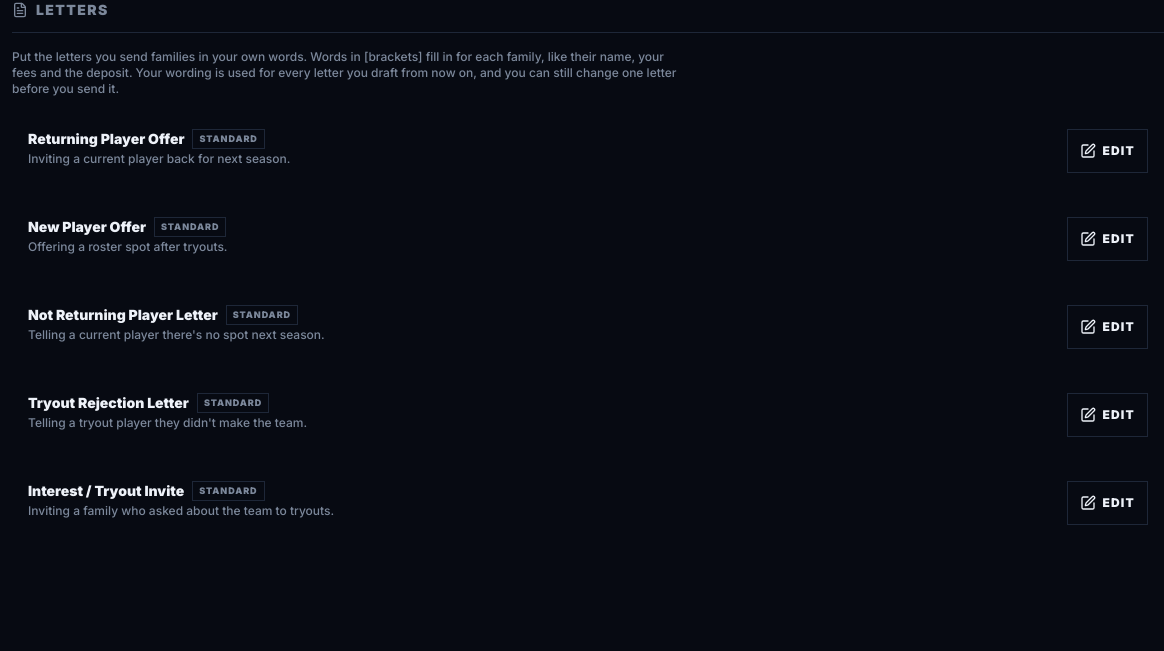
it: LetterTemplatesPanel › previews the letter filled in for a sample family
Click the button "Edit" in the row of "Returning Player Offer" at [1108, 151], box [1067,129,1148,173]
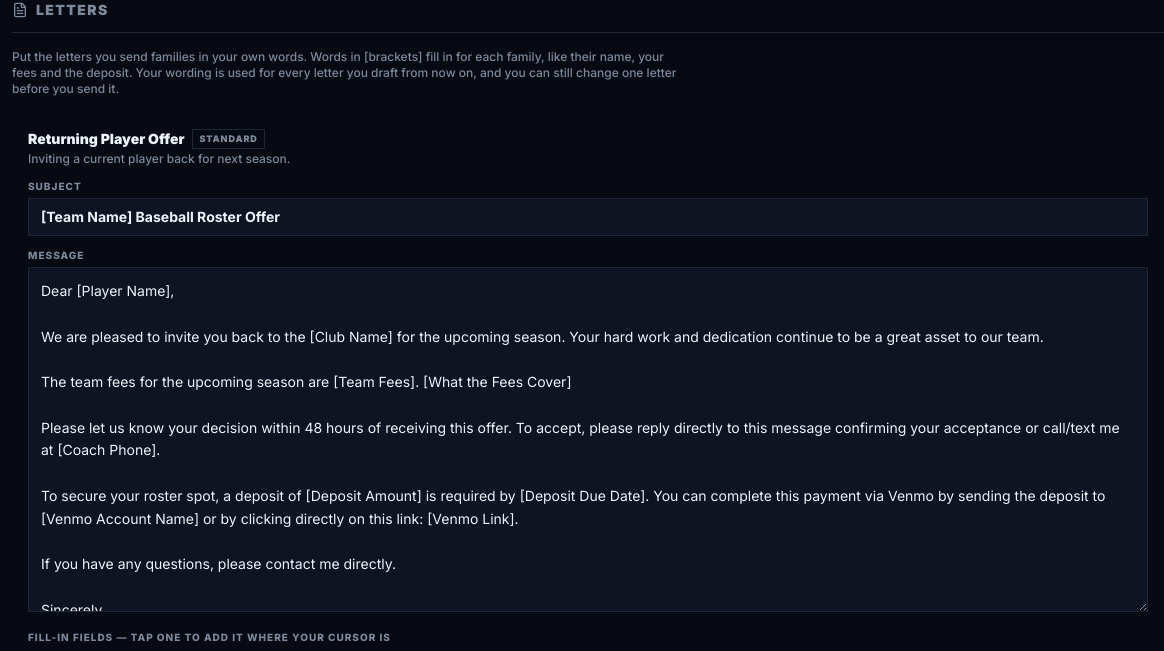
Replace the text in the text box labelled "Message" with "Dear [Player Name], fees are [Team Fees]." at [588, 439], box [28,267,1148,612]
(page scrolled)
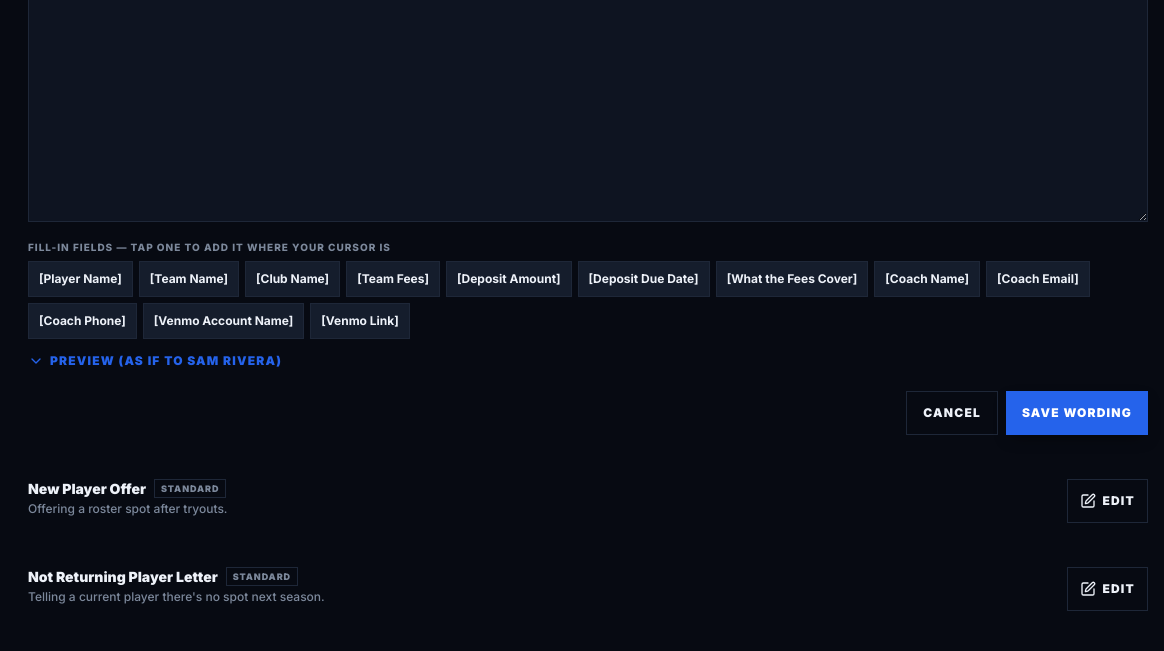
Click the button "Preview (as if to Sam Rivera)" at [155, 360], box [28,352,282,368]
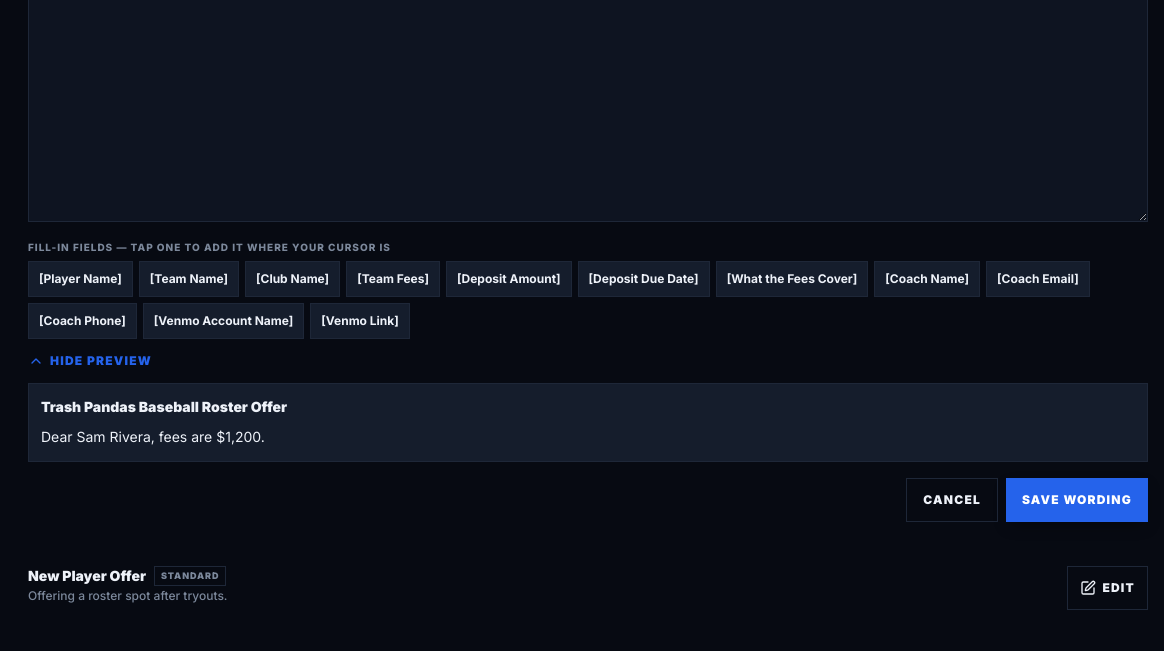
expect the element named "letter preview" shows "Dear Sam Rivera, fees are $1,200.": met, box [41,428,265,445]
